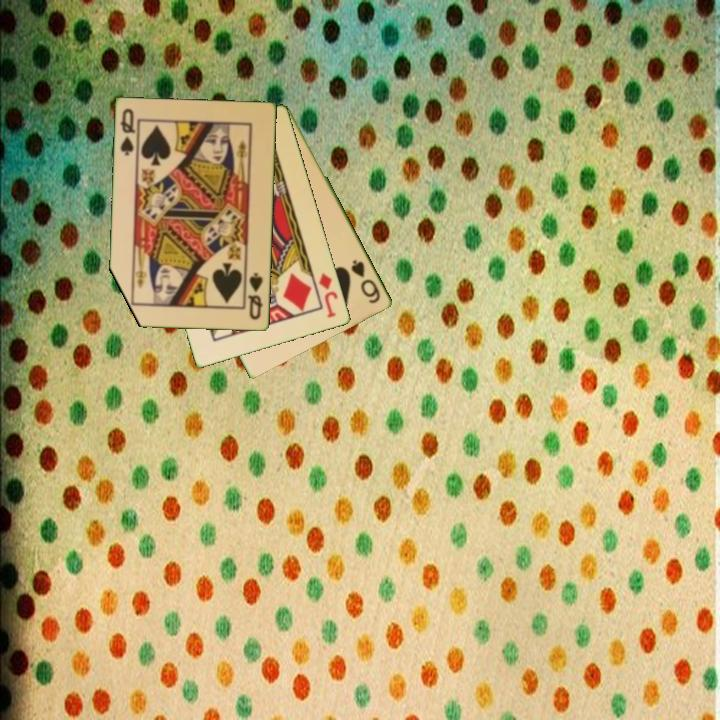6s: (348, 256, 384, 307)
Jd: (315, 269, 341, 321)
Qs: (117, 105, 141, 160), (244, 269, 266, 323)
